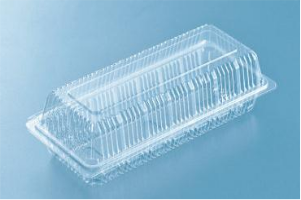PlasticBox: (23, 21, 279, 188)
